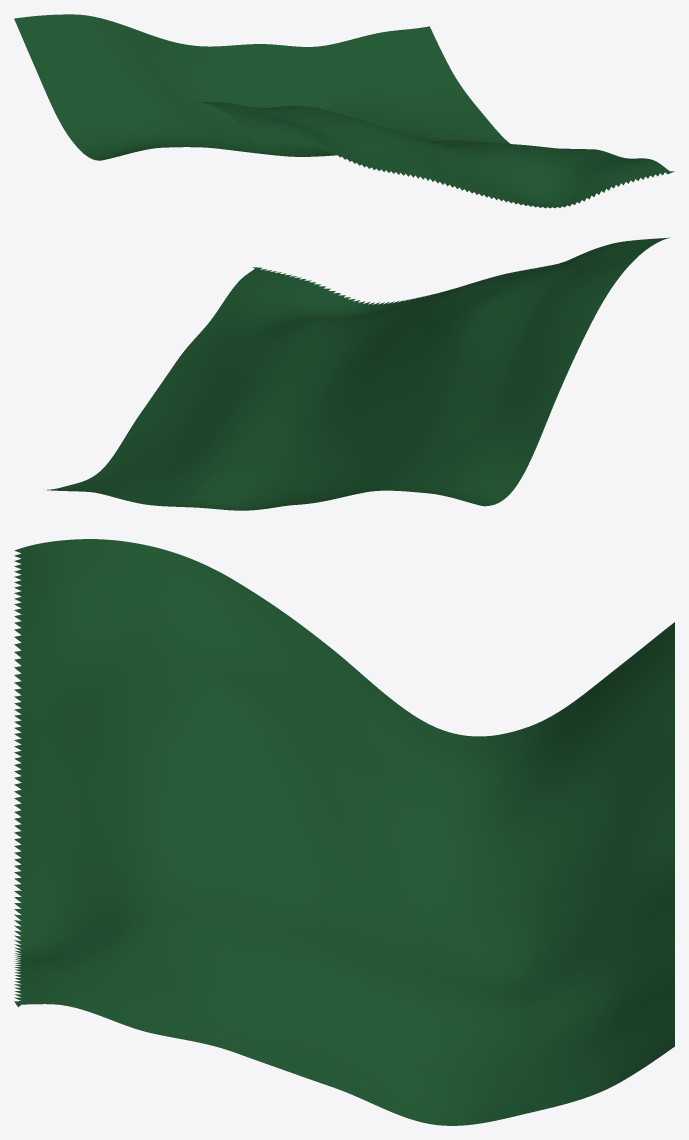
Rendered from payo_land_xm3_y1.glb.
The picture shows the model from 3 angles, top to bottom: view 1: azimuth 30°, elevation 25°; view 2: azimuth 150°, elevation 25°; view 3: azimuth 270°, elevation 25°; orthographic projection. The views are drawn at different scales.
Parts seen in each view (by area): view 1: payo_land_xm3_y1; view 2: payo_land_xm3_y1; view 3: payo_land_xm3_y1.
Boxes of the visible parts, x1,y1,x2,y2 form: payo_land_xm3_y1: (14,14,674,208); payo_land_xm3_y1: (43,237,669,510); payo_land_xm3_y1: (14,539,674,1125).
Bounding box in the file's own units: 257 × 134 × 258.
